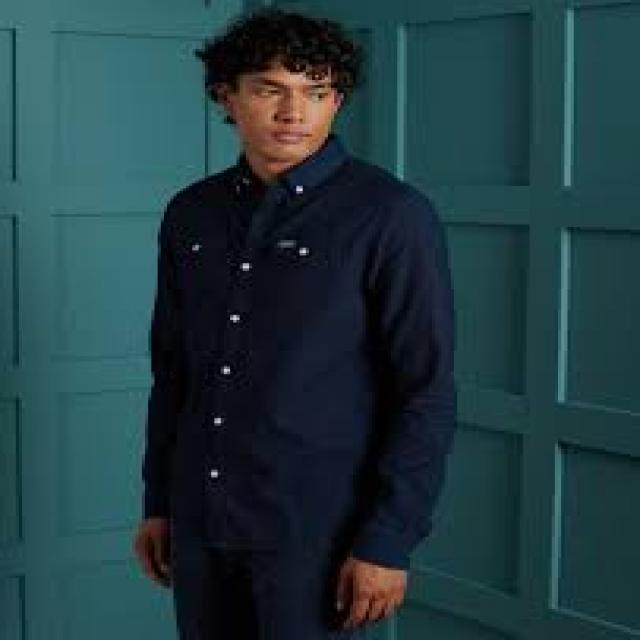plain: (147, 138, 458, 584)
